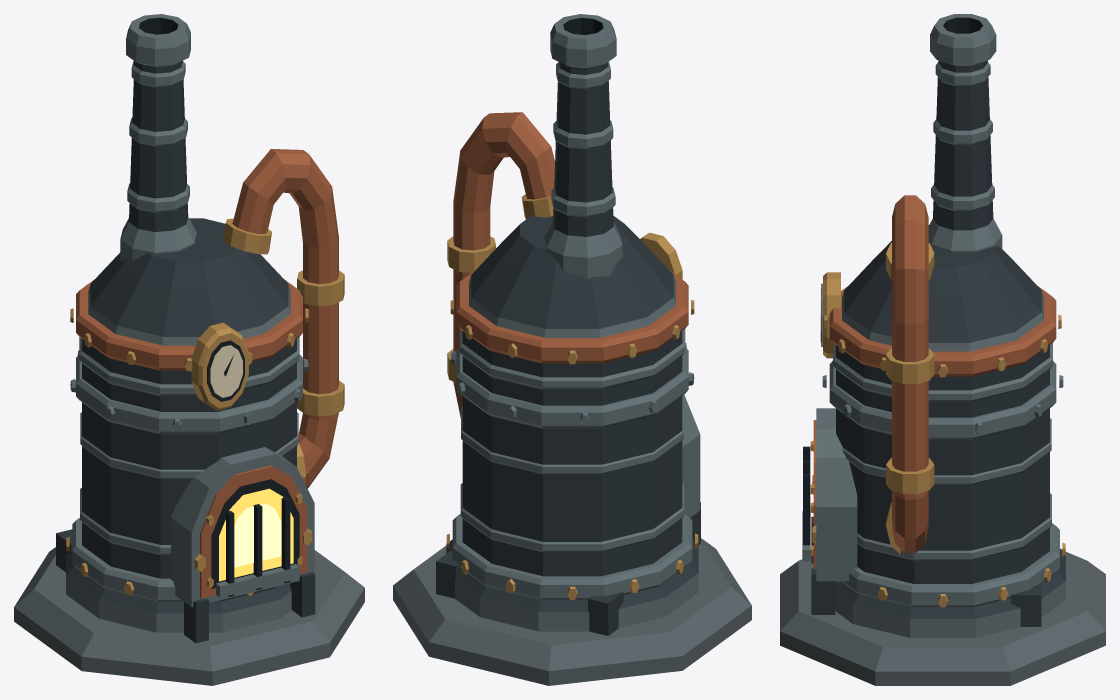
Rendered from Survact-caldera-v03.glb.
The picture shows the model from 3 angles, left to right: view 1: azimuth 30°, elevation 25°; view 2: azimuth 150°, elevation 25°; view 3: azimuth 270°, elevation 25°; orthographic projection. The views are drawn at different scales.
Parts seen in each view (by area): view 1: Body, Mouth; view 2: Body; view 3: Body.
Part boxes in pixels (x1,y1,x2,y2): Body: (14,14,364,685); Mouth: (219,488,293,581); Body: (393,14,751,685); Body: (780,14,1105,685).
Size of the model in its own units: 2.85 by 5.6 by 2.85.
